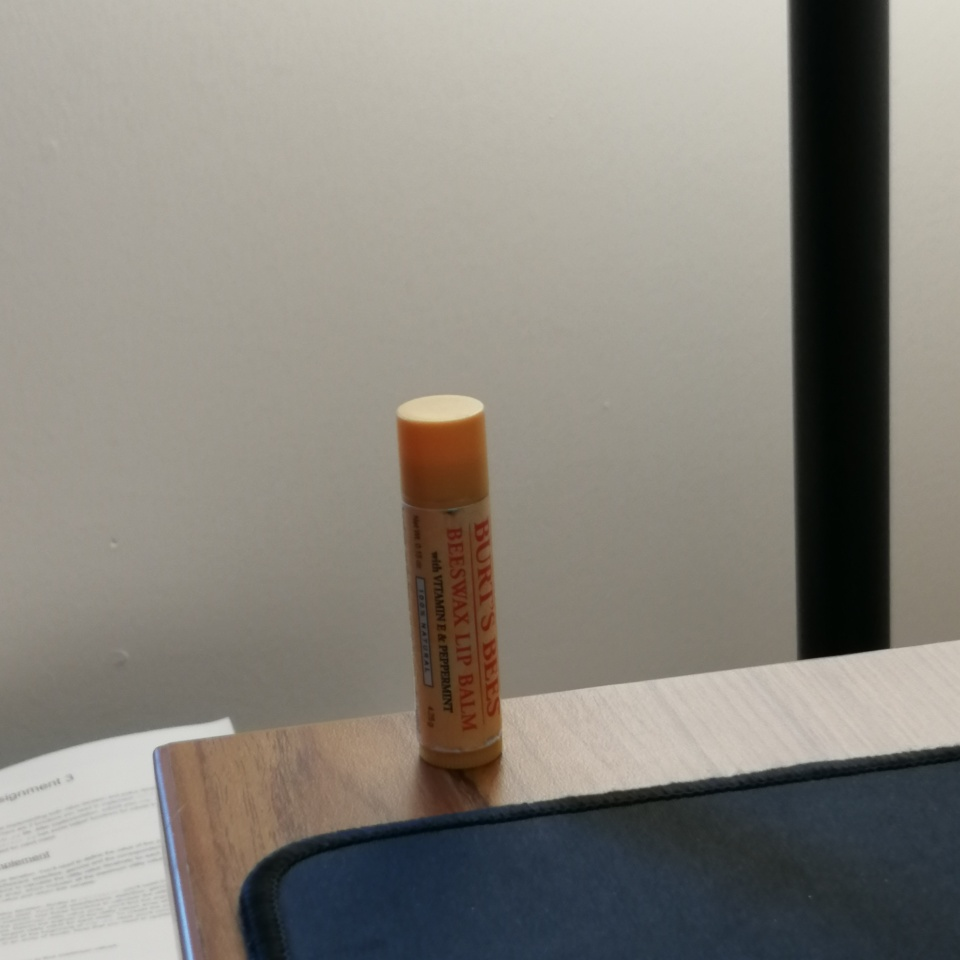chapstick: (396, 393, 505, 771)
